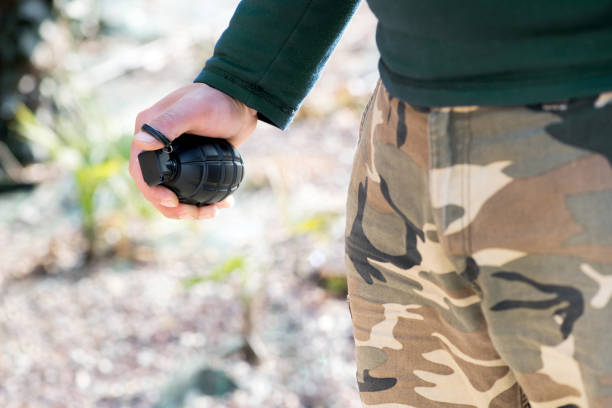e1: (136, 122, 247, 209)
